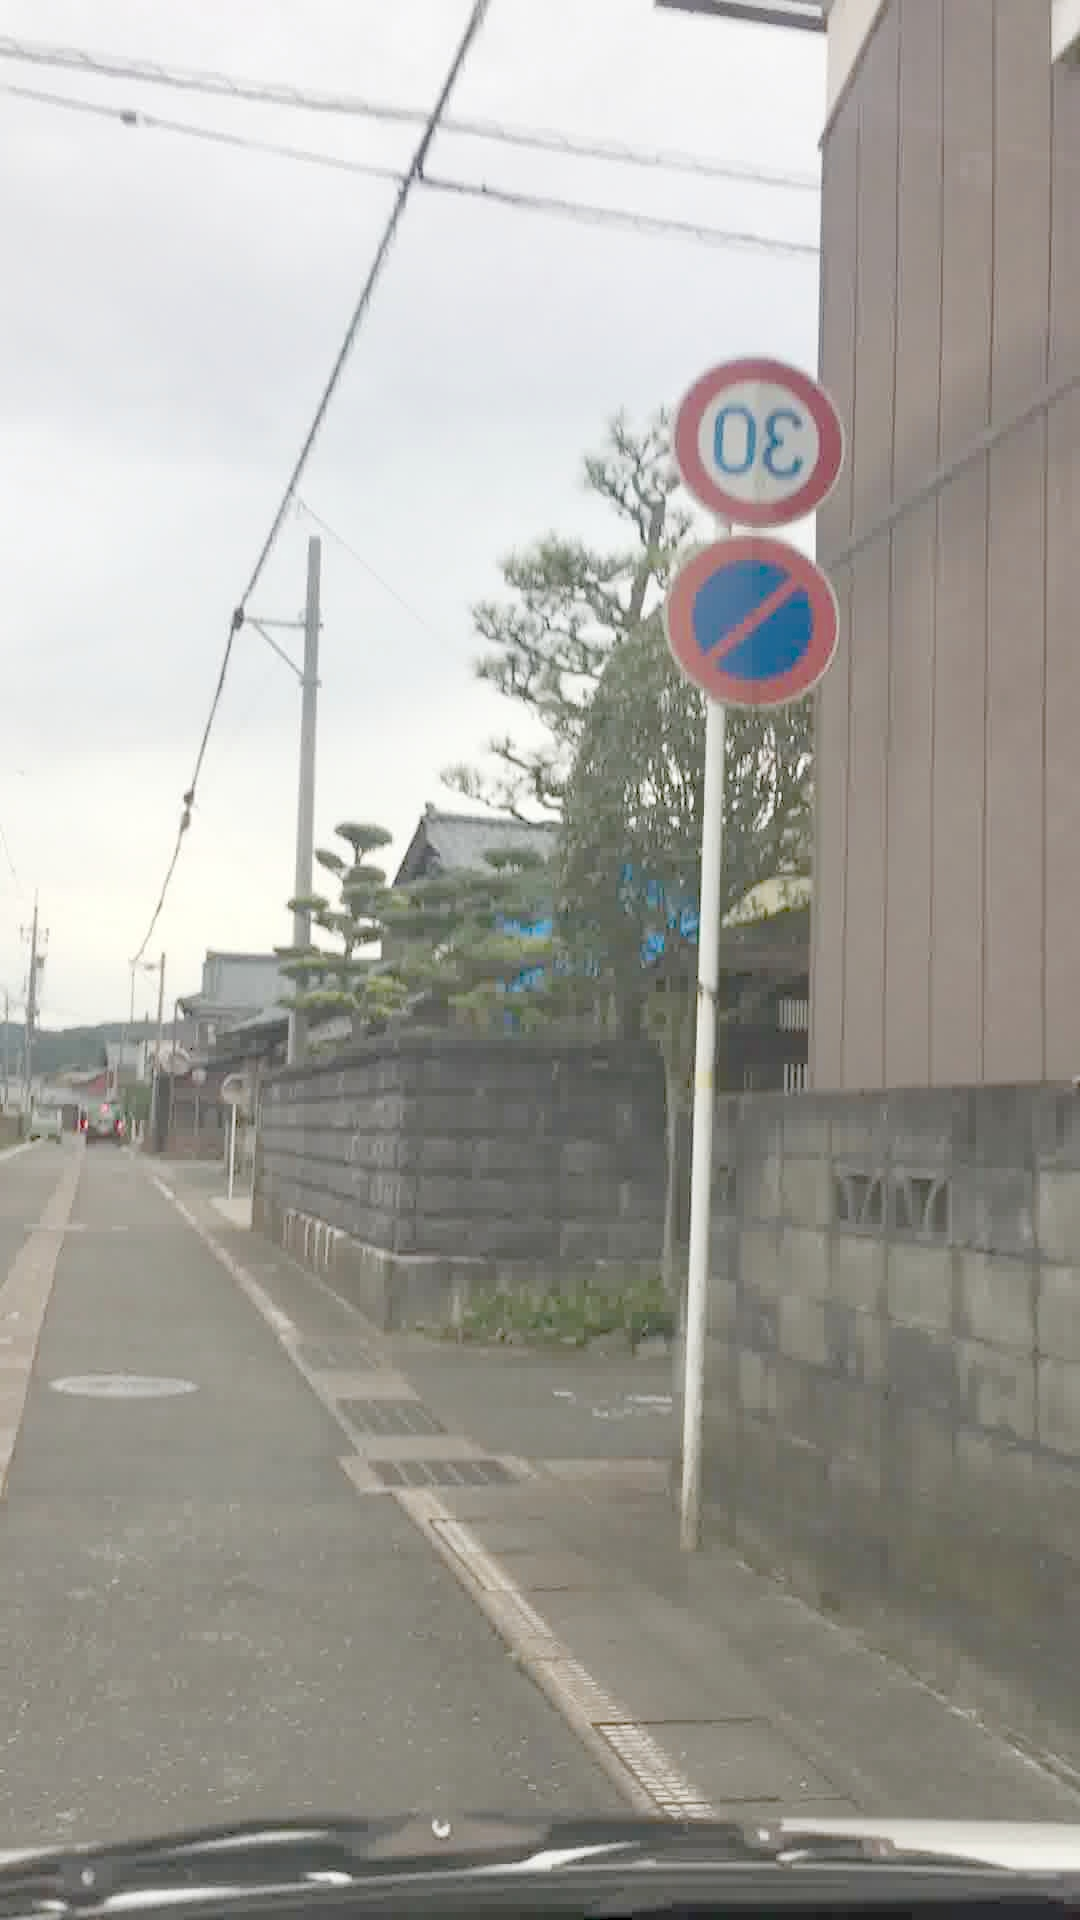Prohibition_sign: (665, 531, 833, 713)
Speed_sign: (670, 338, 856, 556)
